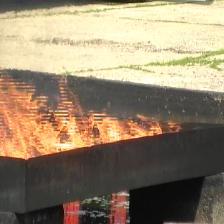fire: (0, 71, 181, 161)
